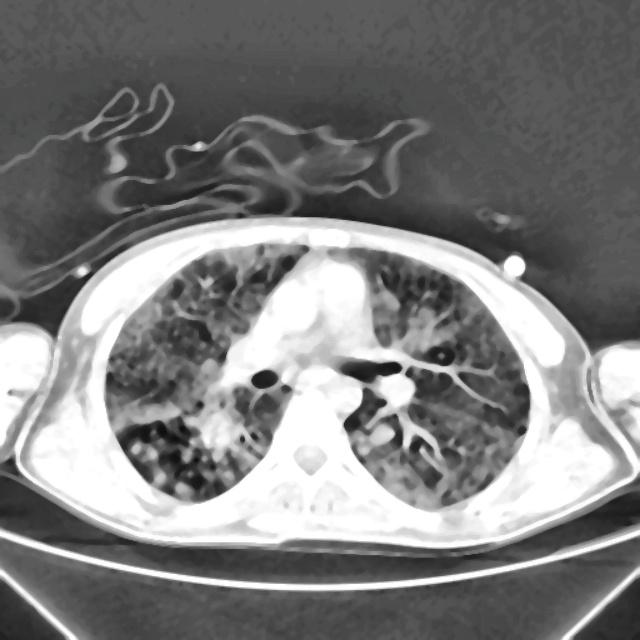covid: (3, 214, 638, 558)
